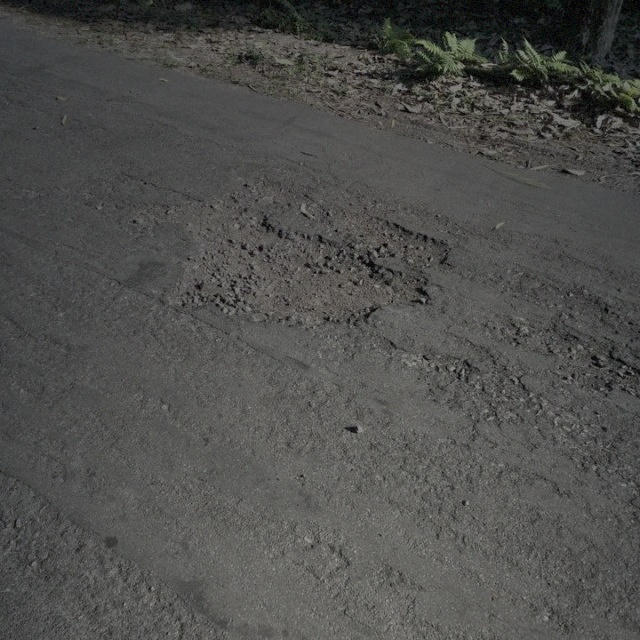pothole: (124, 175, 454, 331)
